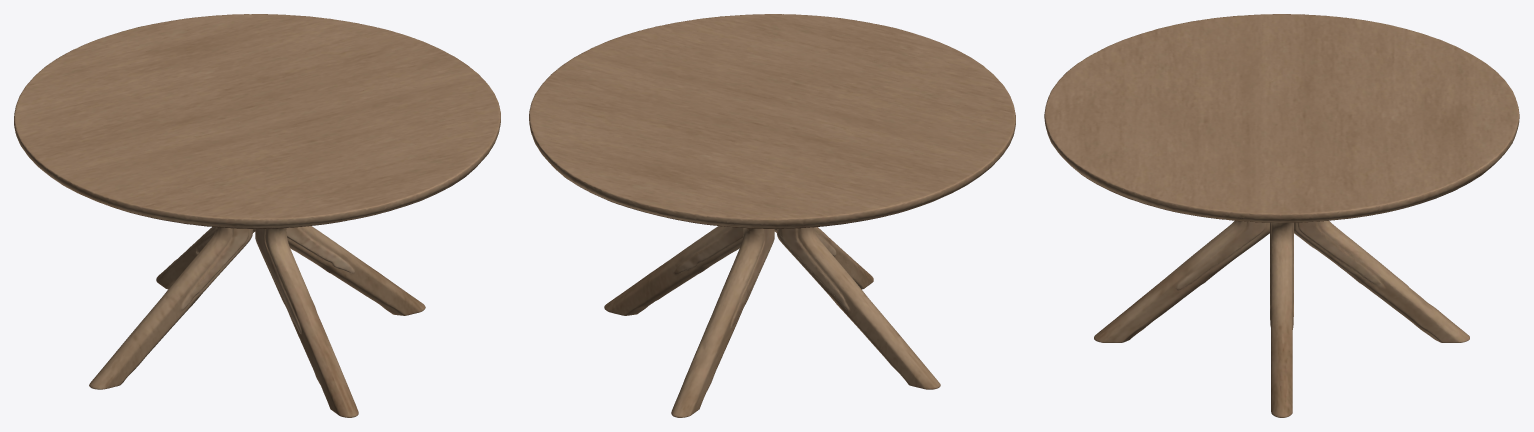
The model's file is Round Side Table.glb.
The picture shows the model from 3 angles, left to right: view 1: azimuth 30°, elevation 25°; view 2: azimuth 150°, elevation 25°; view 3: azimuth 270°, elevation 25°; orthographic projection. The views are drawn at different scales.
Visible parts, largest first — view 1: world; view 2: world; view 3: world.
Boxes of the visible parts, left/top/right/bottom form: world: left=14, top=14, right=500, bottom=417; world: left=529, top=14, right=1015, bottom=417; world: left=1044, top=14, right=1519, bottom=417.
Size of the model in its own units: 0.9991 by 0.5224 by 0.9997.
Materials: 1 (1 with a texture image).
